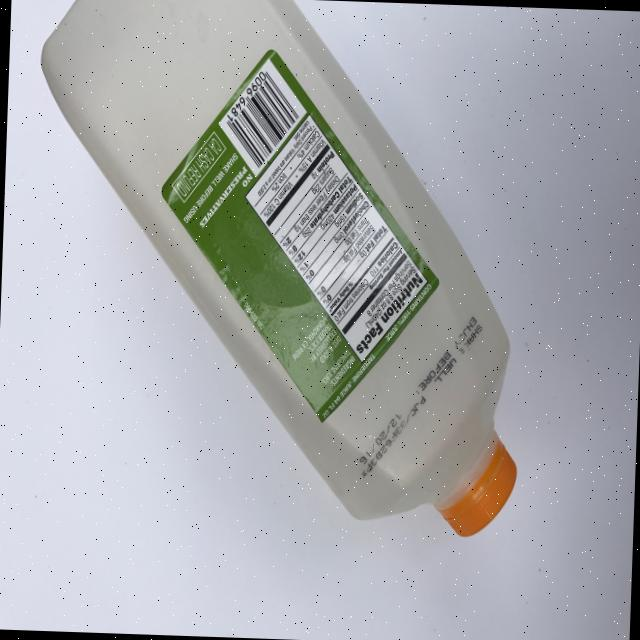plastic: (24, 0, 533, 539)
